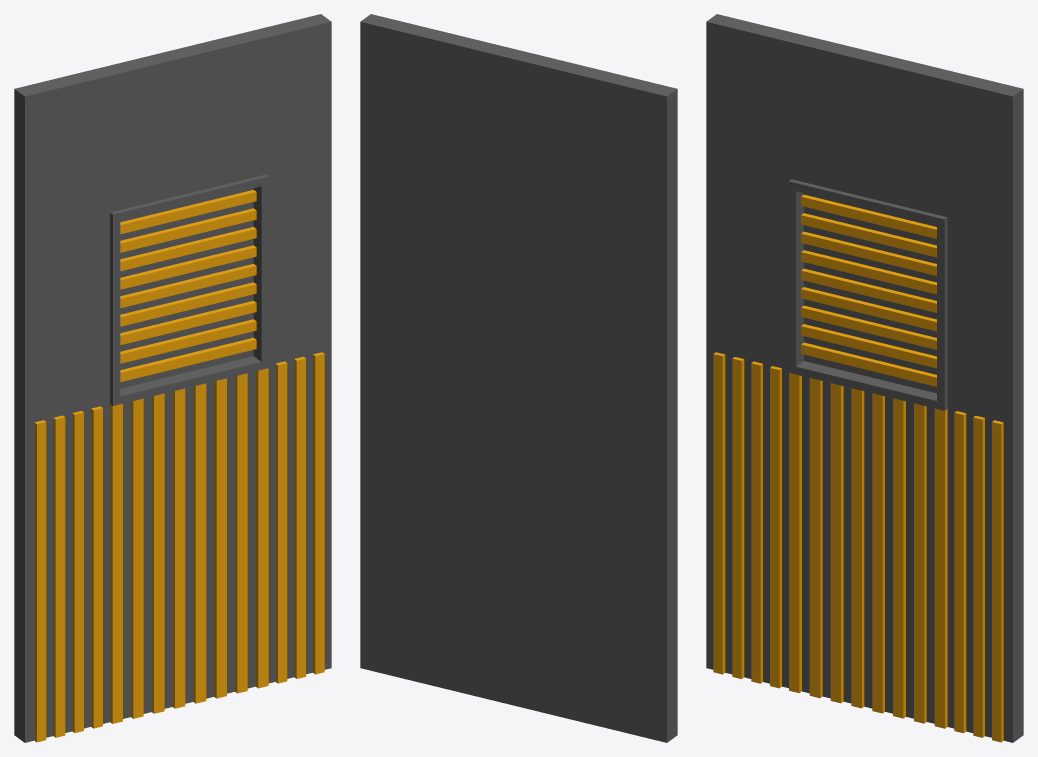
Rendered from Door.FBX.
3 renders of one model, left to right at view 1: azimuth 30°, elevation 25°; view 2: azimuth 150°, elevation 25°; view 3: azimuth 330°, elevation 25°, orthographic.
Visible parts, largest first — view 1: Box001; view 2: Box001; view 3: Box001.
Boxes of the visible parts, <box> form: Box001: <box>14,14,331,742</box>; Box001: <box>360,14,677,742</box>; Box001: <box>706,14,1023,742</box>.
Size of the model in its own units: 6.96 by 14.02 by 0.5299.
1 material, 1 textured.
